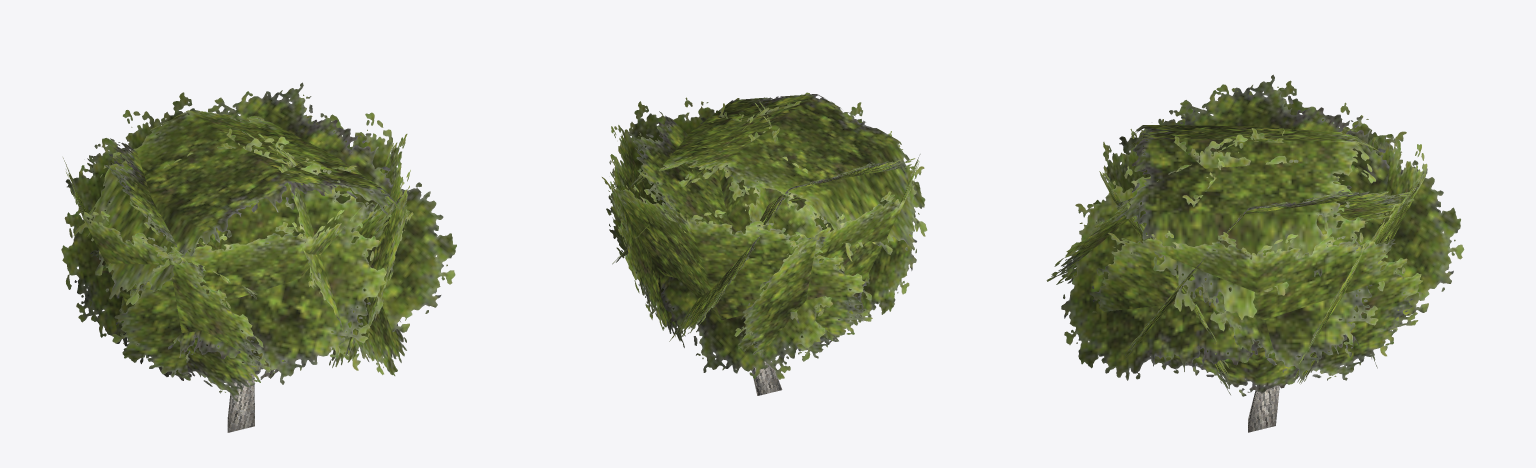
File: Bush.fbx
3 views of the same model, side by side, from view 1: azimuth 30°, elevation 25°; view 2: azimuth 150°, elevation 25°; view 3: azimuth 270°, elevation 25° (orthographic). The views are drawn at different scales.
Parts seen in each view (by area): view 1: Bush; view 2: Bush; view 3: Bush.
Boxes of the visible parts, x1,y1,x2,y2 form: Bush: (61, 82, 456, 432); Bush: (602, 92, 927, 395); Bush: (1046, 74, 1464, 432).
Bounding box in the file's own units: 1.26 × 0.9776 × 1.34.
2 materials, 2 textured.
